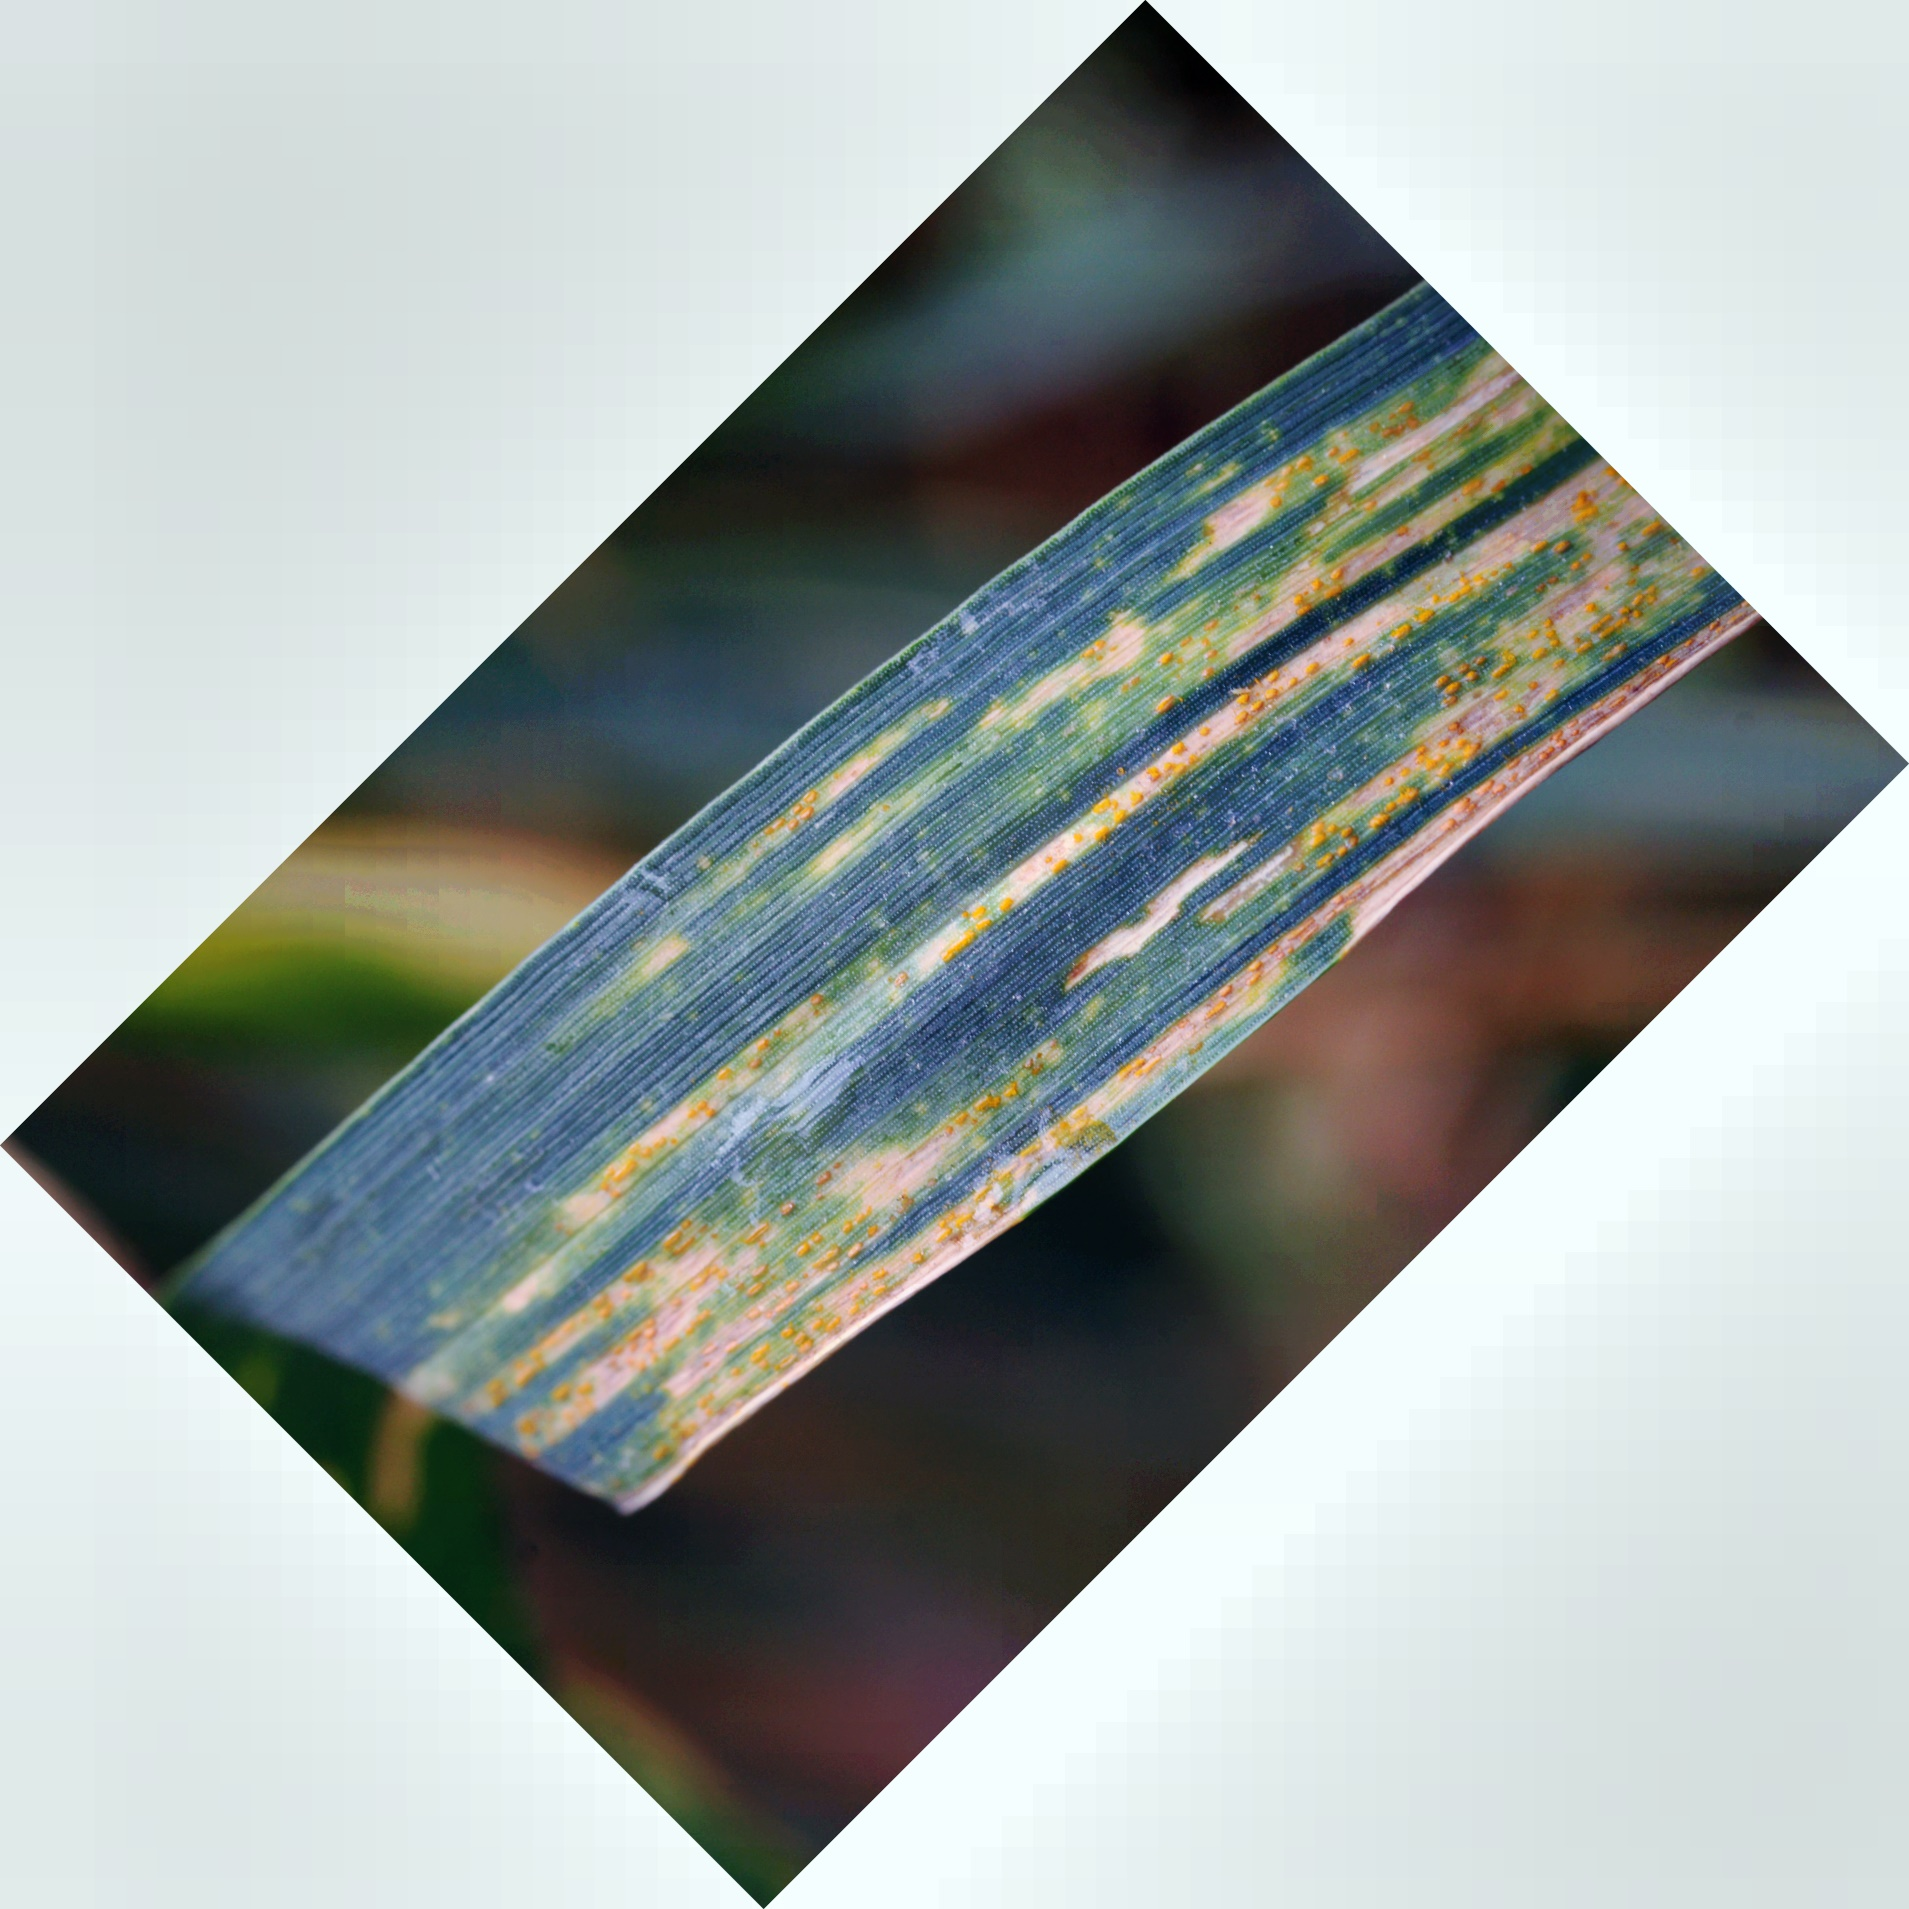Leaf Rust: (586, 418, 1584, 1406)
